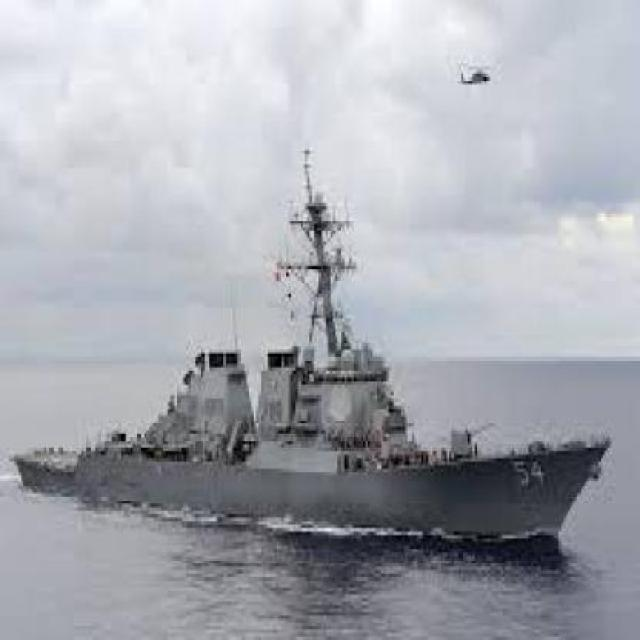warship2: (7, 130, 609, 567)
